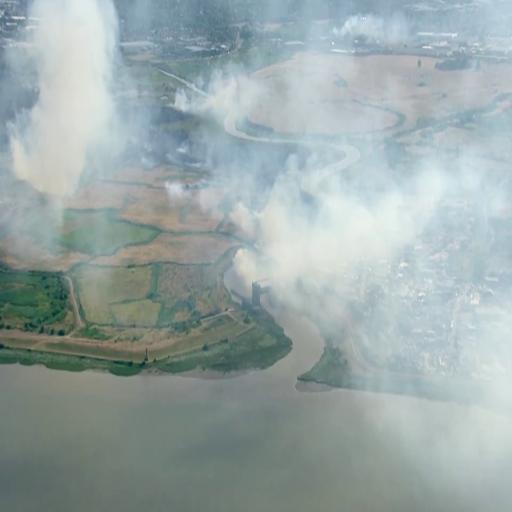smoke: (25, 16, 99, 185)
